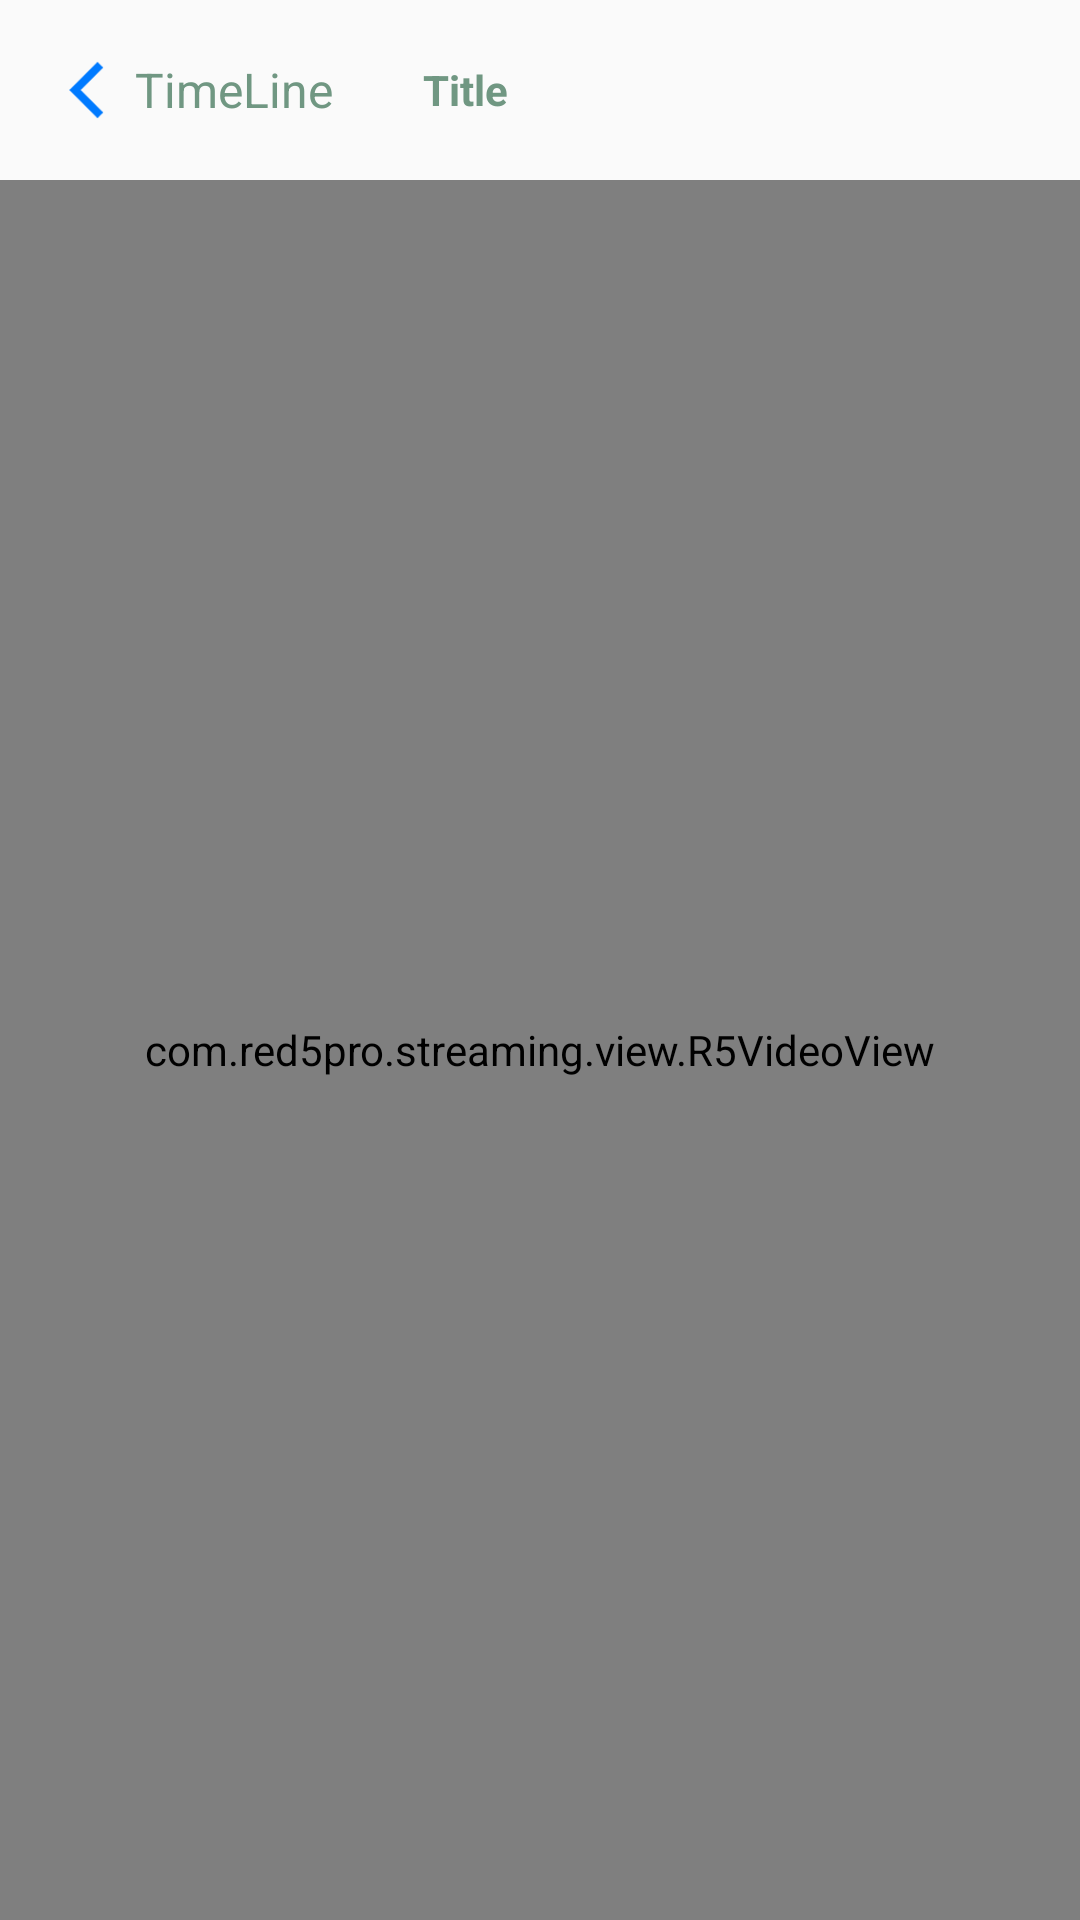

Where to tap for icons on this 1080*1920 app screen, as (x=x, y=y):
back: (x=86, y=90)
